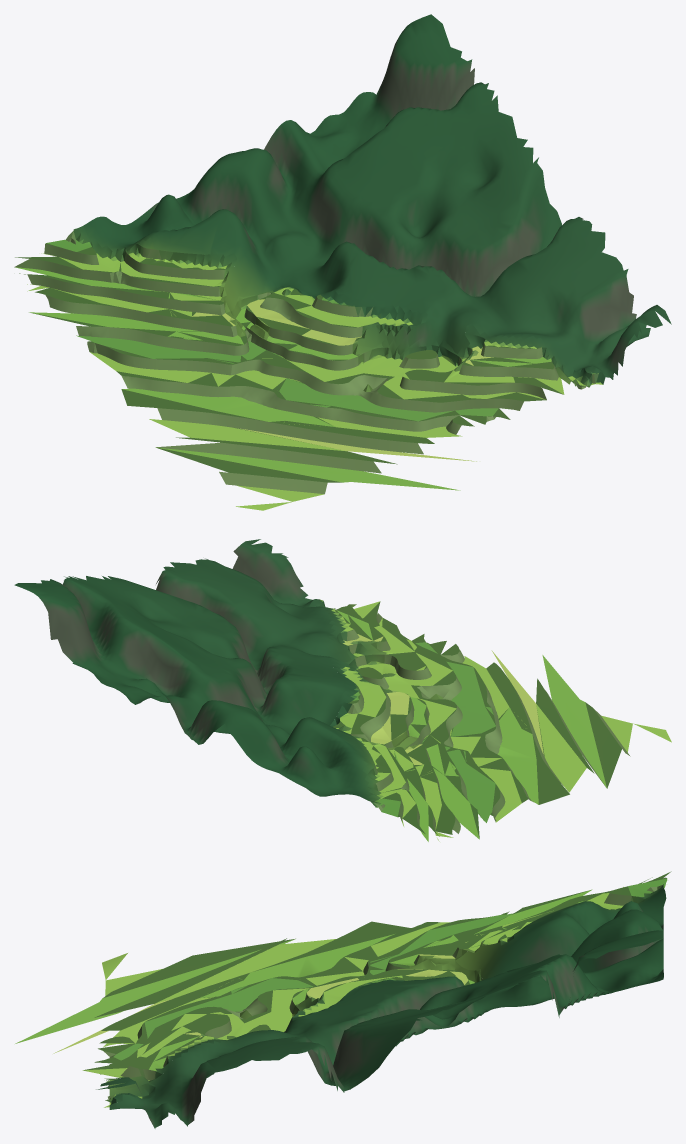
File: payo_land_xm4_y6.glb
3 views of the same model, one above another, from view 1: azimuth 30°, elevation 25°; view 2: azimuth 150°, elevation 25°; view 3: azimuth 270°, elevation 25° (orthographic). The views are drawn at different scales.
Parts seen in each view (by area): view 1: payo_land_xm4_y6; view 2: payo_land_xm4_y6; view 3: payo_land_xm4_y6.
Boxes of the visible parts, x1,y1,x2,y2 form: payo_land_xm4_y6: (14, 14, 671, 510); payo_land_xm4_y6: (14, 539, 671, 841); payo_land_xm4_y6: (15, 871, 671, 1128).
Size of the model in its own units: 275 by 131 by 303.
